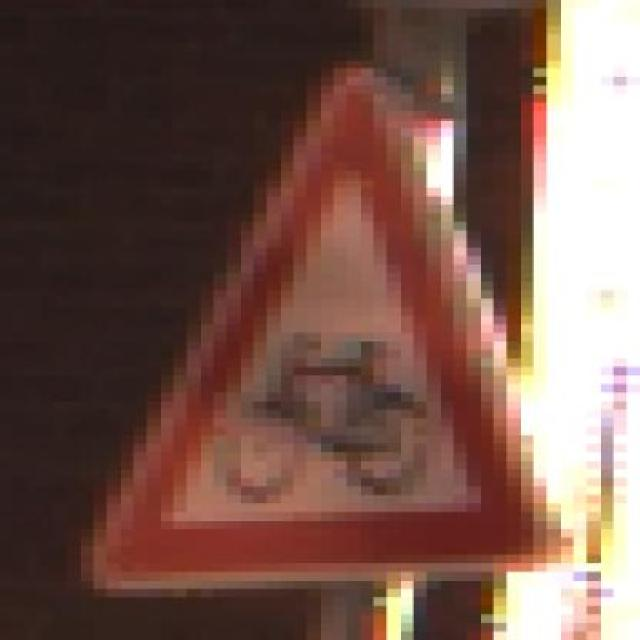CYCLE ROUTE AHEAD WARNING: (40, 59, 614, 598)
